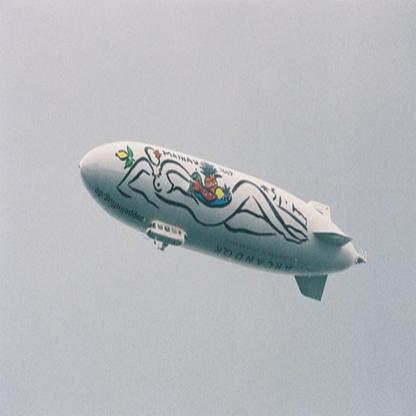Airship: (76, 139, 370, 310)
